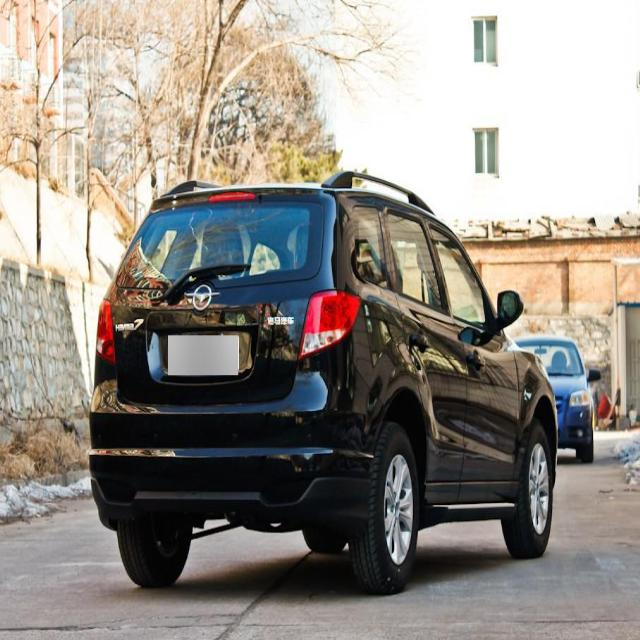back_glass: (115, 198, 326, 290)
back_left_side_light: (94, 297, 118, 367)
back_right_side_light: (296, 290, 363, 362)
door: (381, 205, 466, 502)
front_right_side_door: (424, 216, 522, 495)
front_right_side_mirror: (493, 286, 526, 342)
rear_bumper: (84, 438, 376, 532)
wheel: (347, 428, 417, 593), (498, 422, 554, 557), (116, 523, 193, 588)
